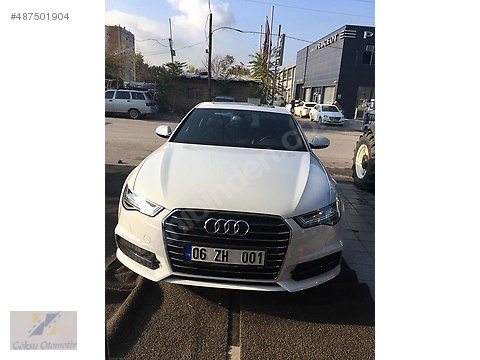audi: (201, 215, 251, 239)
